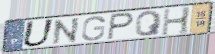G: (80, 15, 107, 42)
H: (160, 6, 193, 37)
N: (52, 16, 82, 46)
P: (106, 12, 136, 41)
Q: (134, 9, 163, 37)
U: (20, 18, 56, 48)
